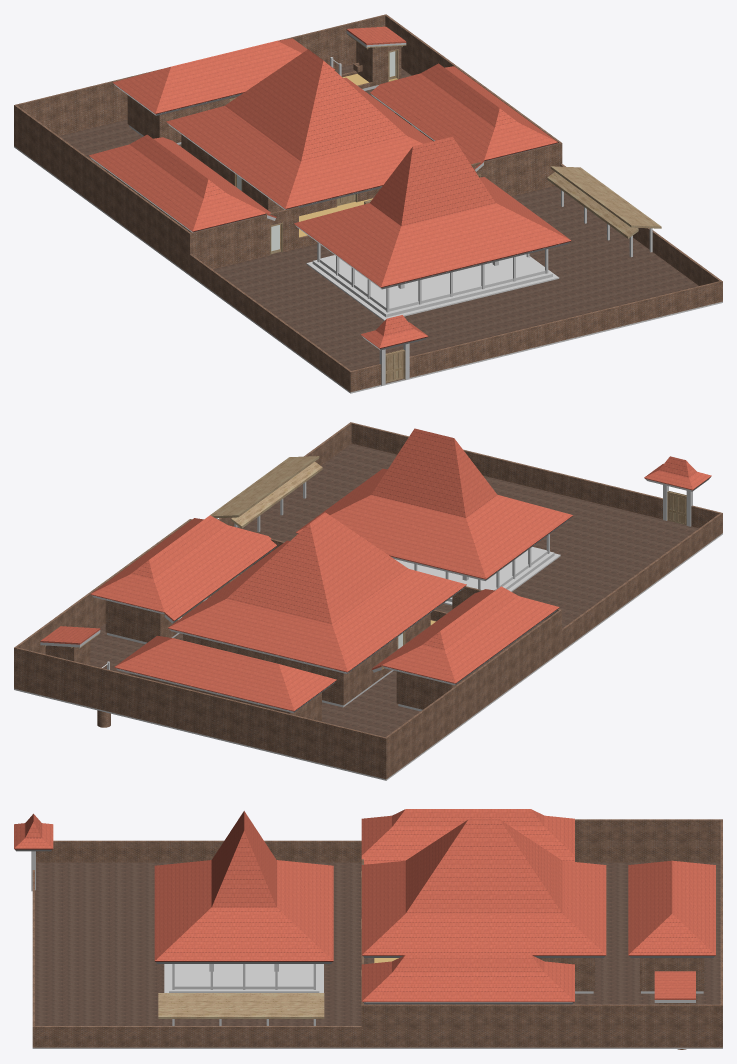
File: joglo.glb
3 renders of one model, top to bottom at view 1: azimuth 30°, elevation 25°; view 2: azimuth 150°, elevation 25°; view 3: azimuth 270°, elevation 25°, orthographic. The views are drawn at different scales.
Visible parts, largest first — view 1: Mesh408_Roof_Tiles___French_Red_0, Mesh28_Brick___Brown_0, Mesh339_Earth___Brown_0, Mesh1_Concrete___04_0, Mesh43_Wood___Pine_Grained_Horizontal_0; view 2: Mesh408_Roof_Tiles___French_Red_0, Mesh28_Brick___Brown_0, Mesh339_Earth___Brown_0, Mesh1_Concrete___04_0, Mesh43_Wood___Pine_Grained_Horizontal_0; view 3: Mesh408_Roof_Tiles___French_Red_0, Mesh28_Brick___Brown_0, Mesh339_Earth___Brown_0, Mesh1_Concrete___04_0, Mesh43_Wood___Pine_Grained_Horizontal_0.
Part boxes in pixels (left/top/right/bottom): Mesh408_Roof_Tiles___French_Red_0: left=89, top=26, right=571, bottom=348; Mesh28_Brick___Brown_0: left=14, top=14, right=722, bottom=392; Mesh339_Earth___Brown_0: left=59, top=64, right=698, bottom=383; Mesh1_Concrete___04_0: left=14, top=31, right=722, bottom=393; Mesh43_Wood___Pine_Grained_Horizontal_0: left=229, top=34, right=661, bottom=382; Mesh408_Roof_Tiles___French_Red_0: left=40, top=428, right=711, bottom=711; Mesh28_Brick___Brown_0: left=14, top=422, right=722, bottom=779; Mesh339_Earth___Brown_0: left=90, top=443, right=698, bottom=737; Mesh1_Concrete___04_0: left=14, top=477, right=722, bottom=780; Mesh43_Wood___Pine_Grained_Horizontal_0: left=44, top=456, right=686, bottom=669; Mesh408_Roof_Tiles___French_Red_0: left=14, top=809, right=715, bottom=1002; Mesh28_Brick___Brown_0: left=32, top=819, right=722, bottom=1049; Mesh339_Earth___Brown_0: left=35, top=862, right=720, bottom=1025; Mesh1_Concrete___04_0: left=15, top=849, right=722, bottom=1048; Mesh43_Wood___Pine_Grained_Horizontal_0: left=158, top=871, right=658, bottom=1018.
Size of the model in its own units: 11.07 by 4.68 by 17.8.
Materials: 5 (5 with a texture image).
